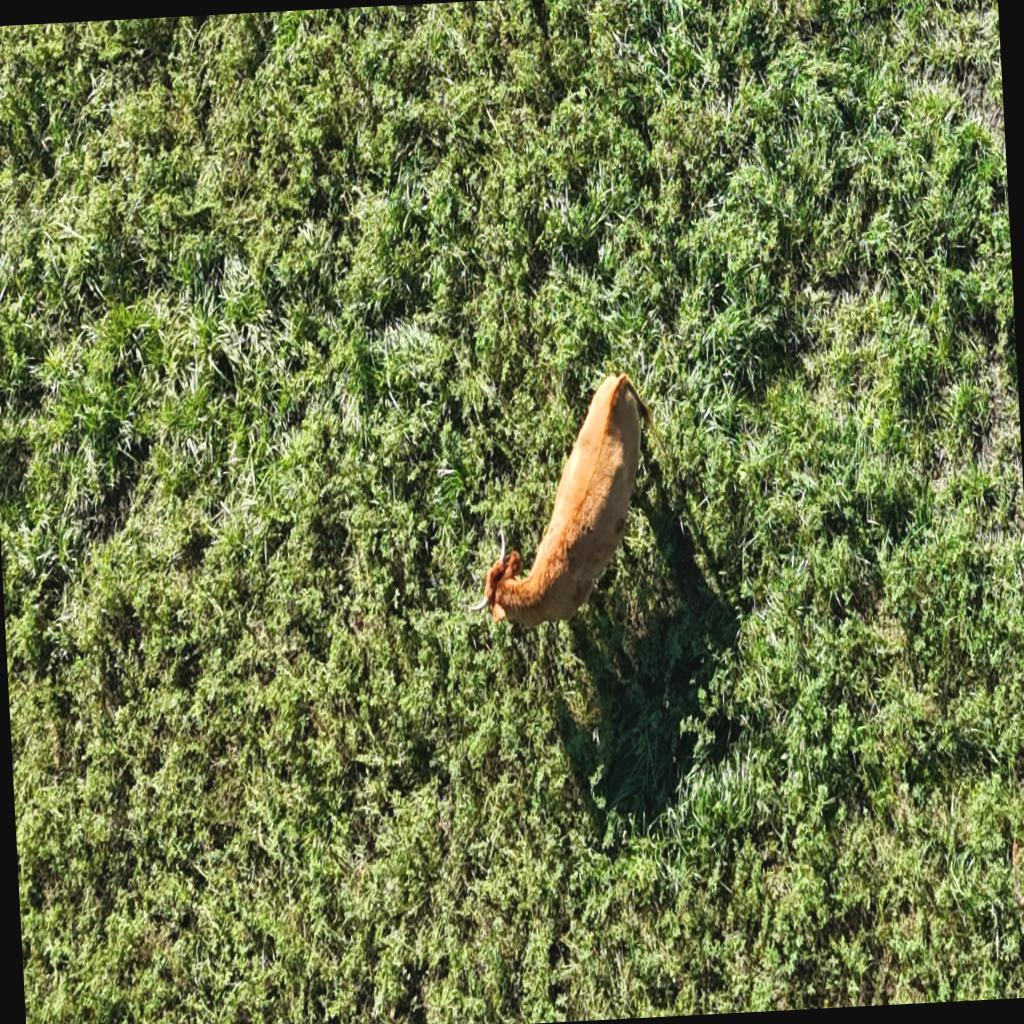cow: (446, 352, 672, 652)
